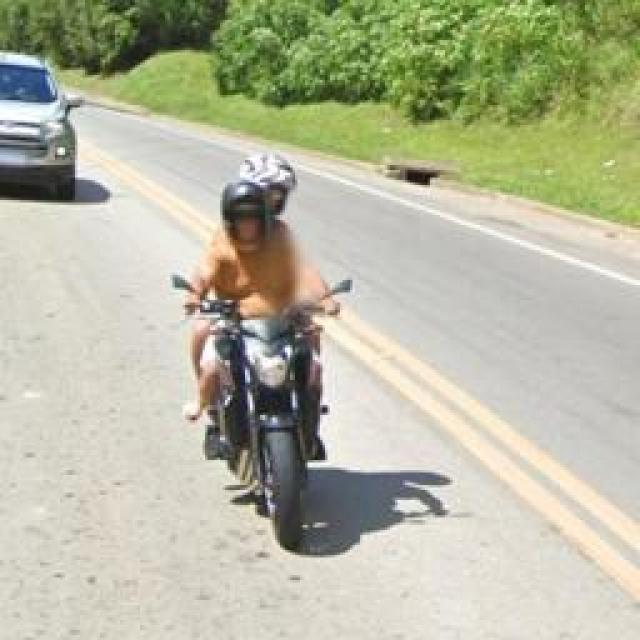car: (1, 53, 79, 200)
motorbike: (178, 148, 362, 567)
